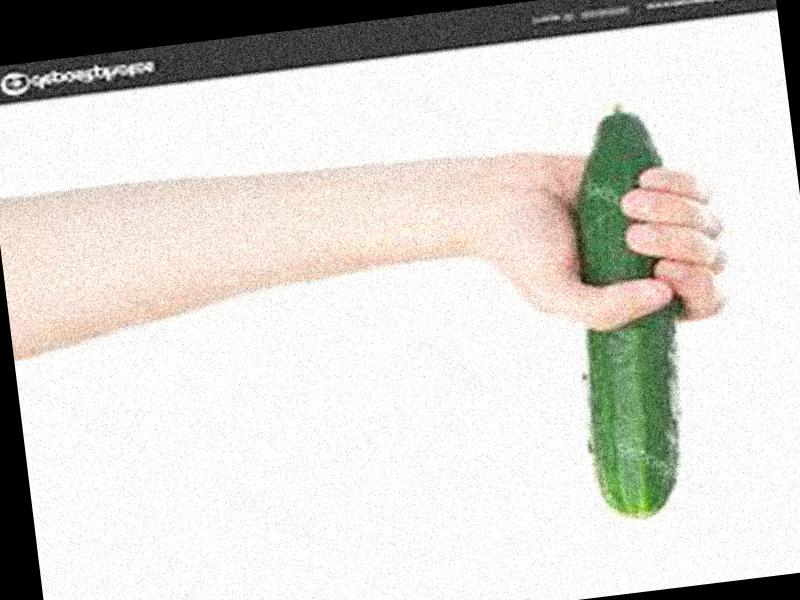Cucumber: (551, 100, 705, 522)
